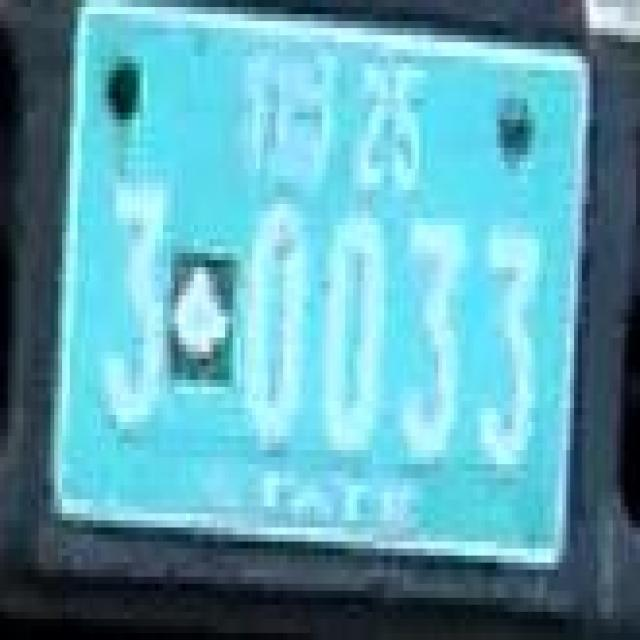State: (241, 35, 341, 195)
